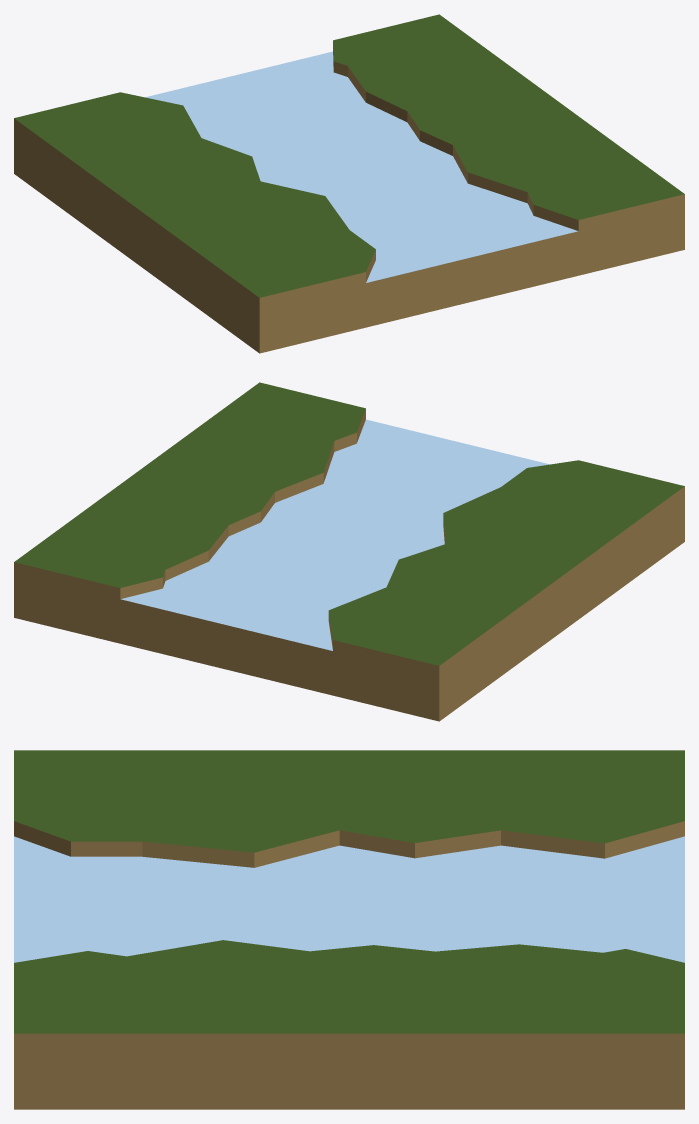
The model's file is Terrain_Tile_Grass_Dirt_River_02.fbx.
The picture shows the model from 3 angles, top to bottom: view 1: azimuth 30°, elevation 25°; view 2: azimuth 150°, elevation 25°; view 3: azimuth 270°, elevation 25°; orthographic projection. The views are drawn at different scales.
Visible parts, largest first — view 1: Terrain_Tile_Grass_Dirt_River_02; view 2: Terrain_Tile_Grass_Dirt_River_02; view 3: Terrain_Tile_Grass_Dirt_River_02.
Part boxes in pixels (bbox=[...]): Terrain_Tile_Grass_Dirt_River_02: bbox=[14, 14, 684, 353]; Terrain_Tile_Grass_Dirt_River_02: bbox=[14, 382, 684, 721]; Terrain_Tile_Grass_Dirt_River_02: bbox=[14, 750, 684, 1109].
Size of the model in its own units: 126 by 15.75 by 126.
